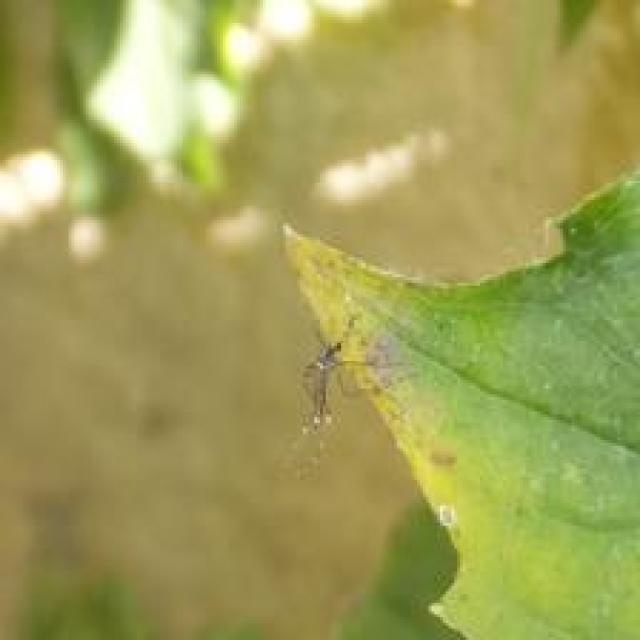Aedes albopictus: (298, 313, 398, 433)
